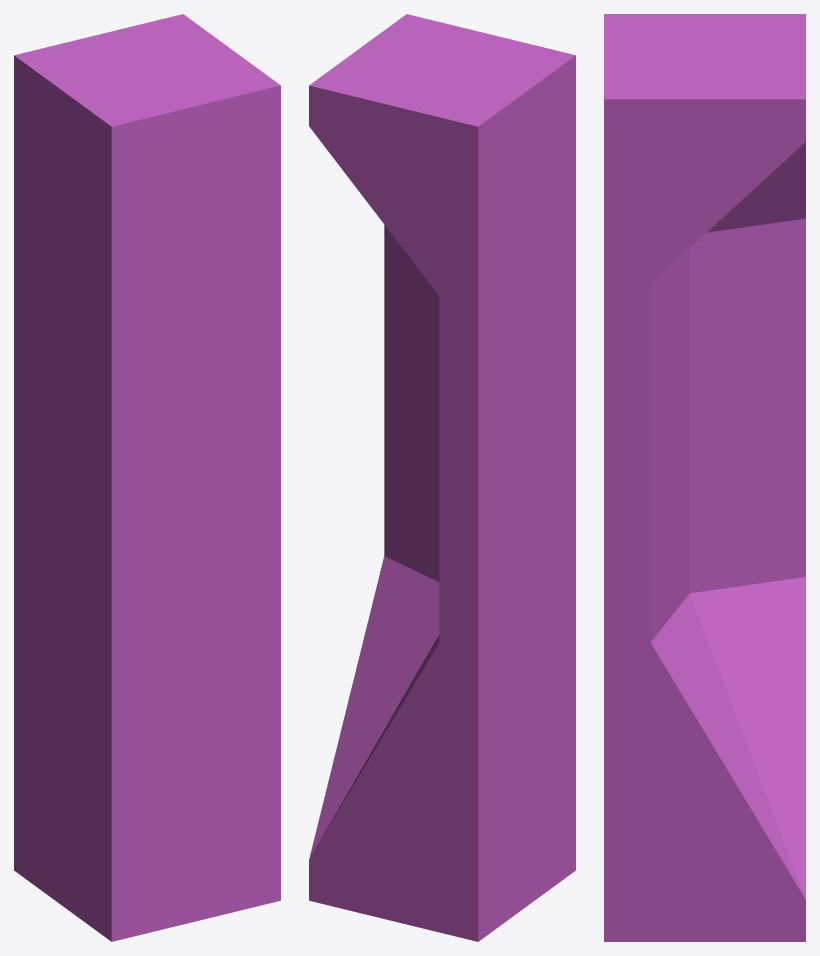
Rendered from Wall_Corner.fbx.
3 renders of one model, left to right at view 1: azimuth 30°, elevation 25°; view 2: azimuth 150°, elevation 25°; view 3: azimuth 270°, elevation 25°, orthographic. The views are drawn at different scales.
Visible parts, largest first — view 1: Corner_Wall; view 2: Corner_Wall; view 3: Corner_Wall.
Boxes of the visible parts, x1,y1,x2,y2 form: Corner_Wall: (14,14,280,941); Corner_Wall: (309,14,575,941); Corner_Wall: (604,14,805,941).
Bounding box in the file's own units: 86.89 × 400 × 86.89.
